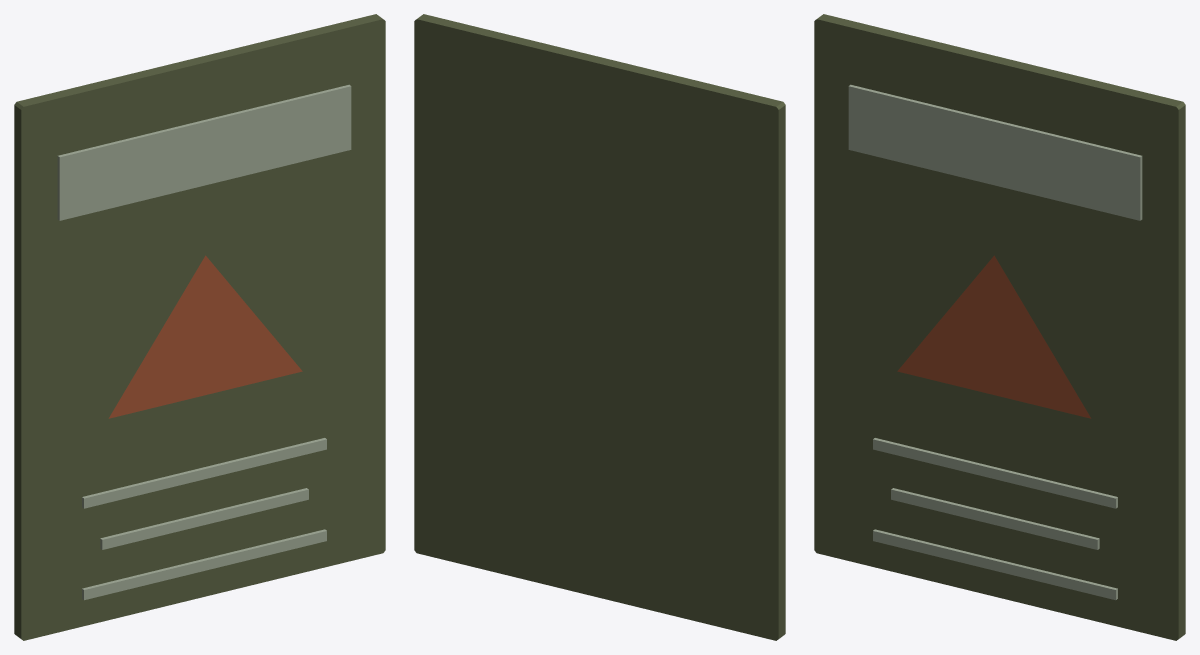
The model's file is Poster.gltf.
The picture shows the model from 3 angles, left to right: view 1: azimuth 30°, elevation 25°; view 2: azimuth 150°, elevation 25°; view 3: azimuth 330°, elevation 25°; orthographic projection.
Visible parts, largest first — view 1: Poster; view 2: Poster; view 3: Poster.
Boxes of the visible parts, <box> form: Poster: <box>14,14,385,640</box>; Poster: <box>414,14,785,640</box>; Poster: <box>814,14,1185,640</box>.
Bounding box in the file's own units: 0.15 × 0.21 × 0.0065.
